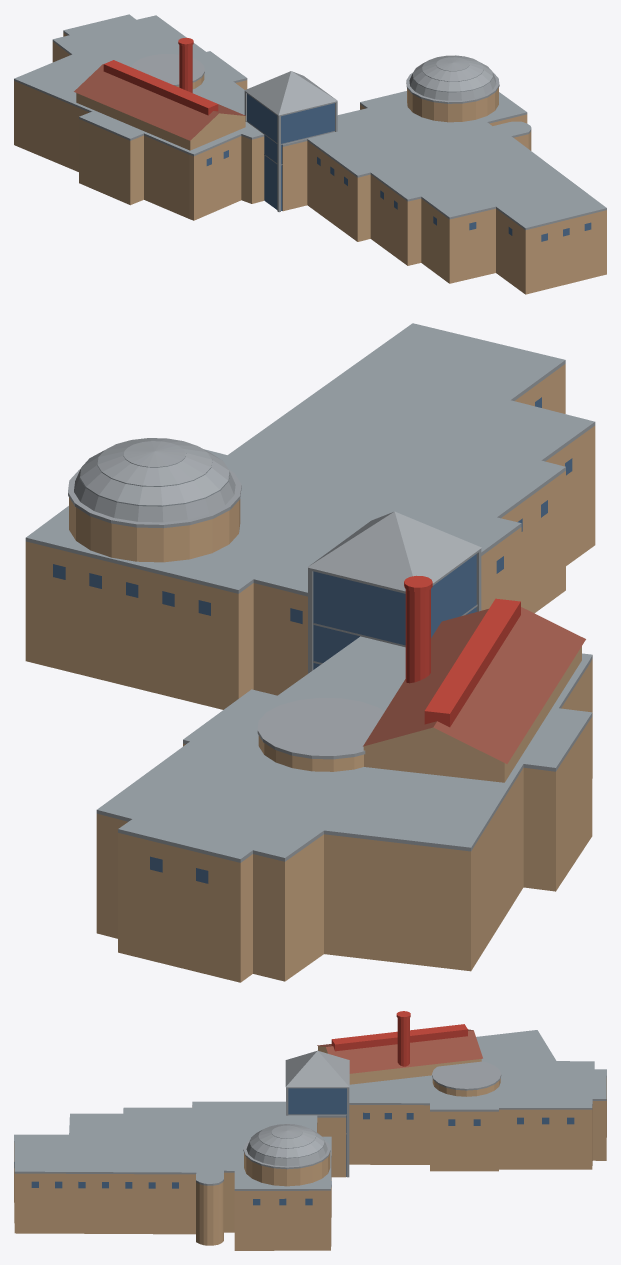
The model's file is pdx-omsi.glb.
3 views of the same model, one above another, from view 1: azimuth 30°, elevation 25°; view 2: azimuth 150°, elevation 25°; view 3: azimuth 270°, elevation 25° (orthographic). The views are drawn at different scales.
Visible parts, largest first — view 1: Oregon Museum of Science and Industry; view 2: Oregon Museum of Science and Industry; view 3: Oregon Museum of Science and Industry.
Boxes of the visible parts, box(x1,y1,x2,y2) form: Oregon Museum of Science and Industry: box(14, 14, 606, 294); Oregon Museum of Science and Industry: box(25, 323, 595, 982); Oregon Museum of Science and Industry: box(14, 1011, 606, 1250).
Bounding box in the file's own units: 126 × 45.4 × 198.
